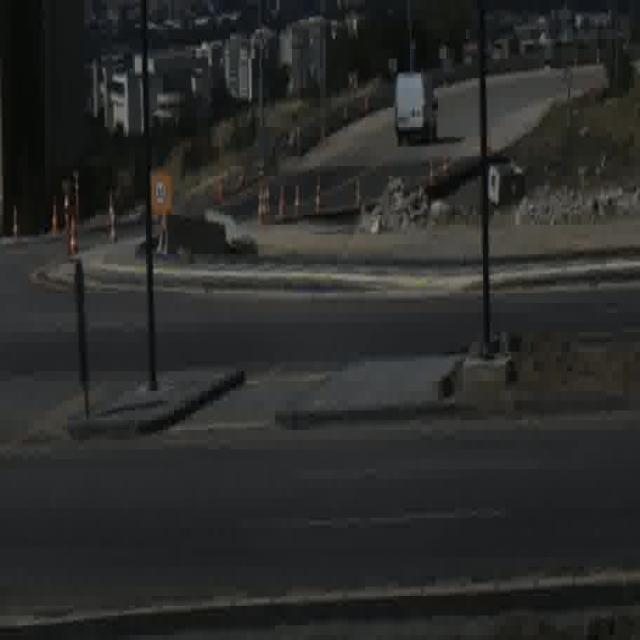Car: (393, 70, 437, 148)
